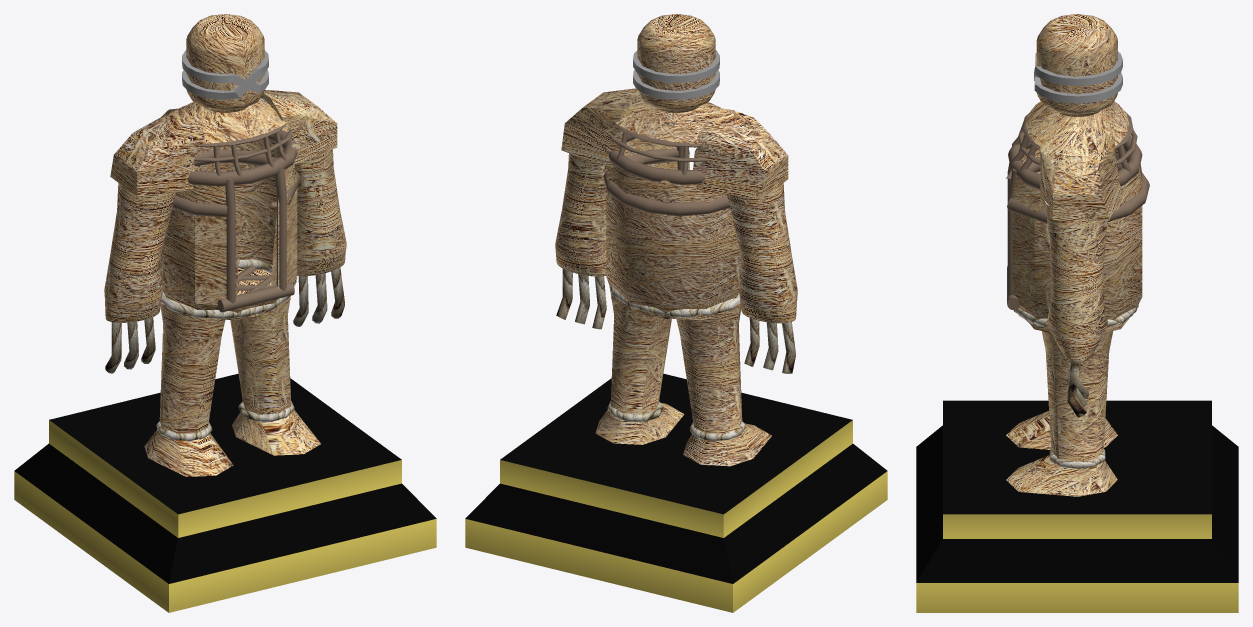
Rendered from WickermanStatue.fbx.
3 views of the same model, side by side, from view 1: azimuth 30°, elevation 25°; view 2: azimuth 150°, elevation 25°; view 3: azimuth 270°, elevation 25° (orthographic). The views are drawn at different scales.
Visible parts, largest first — view 1: mqo_mesh; view 2: mqo_mesh; view 3: mqo_mesh.
Boxes of the visible parts, bbox=[...] form: mqo_mesh: bbox=[14, 14, 436, 612]; mqo_mesh: bbox=[465, 14, 887, 612]; mqo_mesh: bbox=[916, 14, 1238, 612].
Size of the model in its own units: 867 by 1539 by 867.
